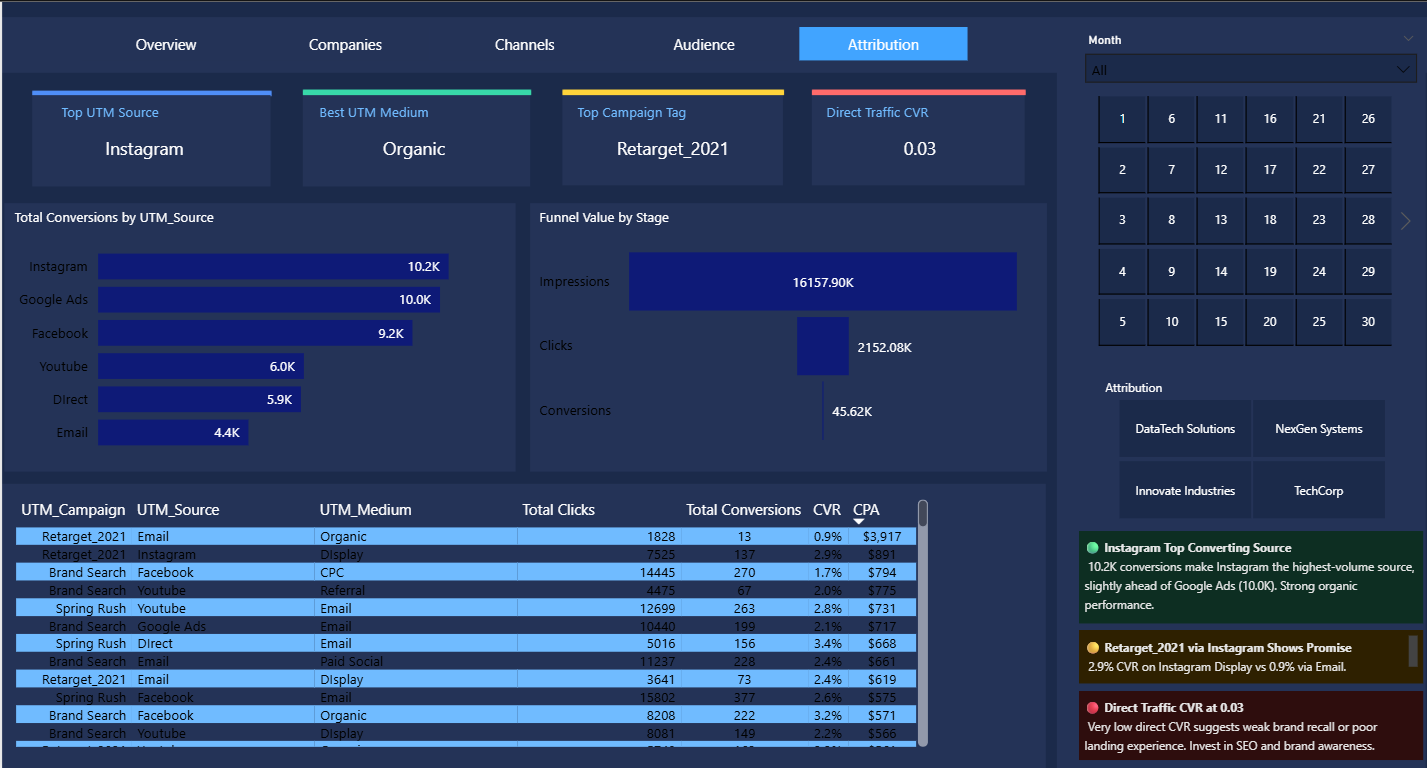

The dashboard page shown, as its layout file describes it:
{"tool":"powerbi","page":{"name":"Attribution","canvas":[1280,720],"ordinal":4},"visuals":[{"type":"card","title":"Top UTM Source","fields":{"Values":["CalcMeasures.Top UTM Source"]},"box":[48.5,120.3,158.9,69.1],"z":0},{"type":"card","title":"Best UTM Medium","fields":{"Values":["CalcMeasures.Best UTM Medium"]},"box":[280.1,120.3,179.6,69.1],"z":1000},{"type":"card","title":"Top Campaign Tag","fields":{"Values":["CalcMeasures.Top Campaign Tag"]},"box":[511.7,120.3,181.3,69.1],"z":2000},{"type":"card","title":"Direct Traffic CVR","fields":{"Values":["CalcMeasures.Direct Traffic CVR"]},"box":[735.3,120.3,177.8,69.1],"z":3000},{"type":"clusteredBarChart","fields":{"Category":["Dim_UTM.UTM_Source"],"Y":["CalcMeasures.Total Conversions"]},"box":[6.3,214.6,444.4,230.7],"z":4000},{"type":"funnel","fields":{"Category":["Dim_UTM.UTM_Medium"]},"box":[477.6,214.6,443.5,230.7],"z":5000},{"type":"tableEx","fields":{"Values":["Dim_UTM.UTM_Campaign","Dim_UTM.UTM_Source","Dim_UTM.UTM_Medium","CalcMeasures.Total Clicks","CalcMeasures.Total Conversions","CalcMeasures.CVR","CalcMeasures.CPA"]},"box":[6.3,471.3,829.5,231.6],"z":6000},{"type":"slicer","fields":{"Values":["Date_Dim.Day"]},"box":[962.4,111.3,317.8,248.7],"z":7000},{"type":"slicer","fields":{"Values":["Date_Dim.Month Name"]},"box":[962.4,52.1,317.8,56.6],"z":8000},{"type":"pageNavigator","box":[71.8,52.1,795.4,30.5],"z":9000},{"type":"slicer","fields":{"Values":["Dim_Company.Company"]},"box":[962.4,360,317.8,138.3],"z":10000},{"type":"textbox","box":[966.9,504.5,308.8,82.6],"z":11000},{"type":"textbox","box":[966.9,593.4,308.8,47.6],"z":12000},{"type":"textbox","box":[966.9,648.2,308.8,61.9],"z":13000}]}

Visuals, with their boxes on the page's 1280x720 design canvas (x1, y1, x2, y2). These are canvas units, not pixel positions in the 1427x768 screenshot, which may show the page scaled, cropped or inside an application window:
"Top UTM Source" card: (48, 120, 207, 189)
"Best UTM Medium" card: (280, 120, 460, 189)
"Top Campaign Tag" card: (512, 120, 693, 189)
"Direct Traffic CVR" card: (735, 120, 913, 189)
clusteredBarChart - Dim_UTM.UTM_Source x CalcMeasures.Total Conversions: (6, 215, 451, 445)
funnel - Dim_UTM.UTM_Medium: (478, 215, 921, 445)
tableEx - Dim_UTM.UTM_Campaign x Dim_UTM.UTM_Source: (6, 471, 836, 703)
slicer - Date_Dim.Day: (962, 111, 1280, 360)
slicer - Date_Dim.Month Name: (962, 52, 1280, 109)
pageNavigator: (72, 52, 867, 83)
slicer - Dim_Company.Company: (962, 360, 1280, 498)
textbox: (967, 504, 1276, 587)
textbox: (967, 593, 1276, 641)
textbox: (967, 648, 1276, 710)
